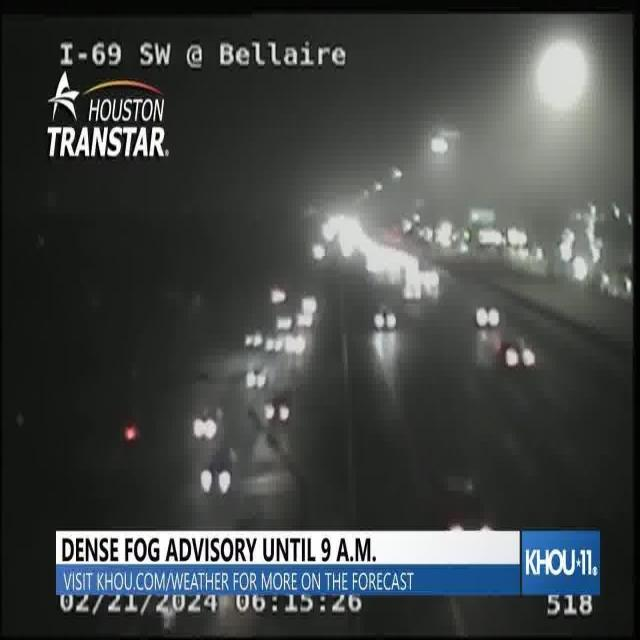Car: (194, 453, 235, 500), (260, 386, 294, 439), (190, 400, 225, 440), (496, 340, 540, 370), (471, 301, 505, 336), (369, 312, 402, 336), (287, 329, 310, 361), (261, 337, 287, 363), (242, 367, 268, 391), (302, 290, 325, 313), (243, 333, 265, 355), (272, 312, 294, 328)
